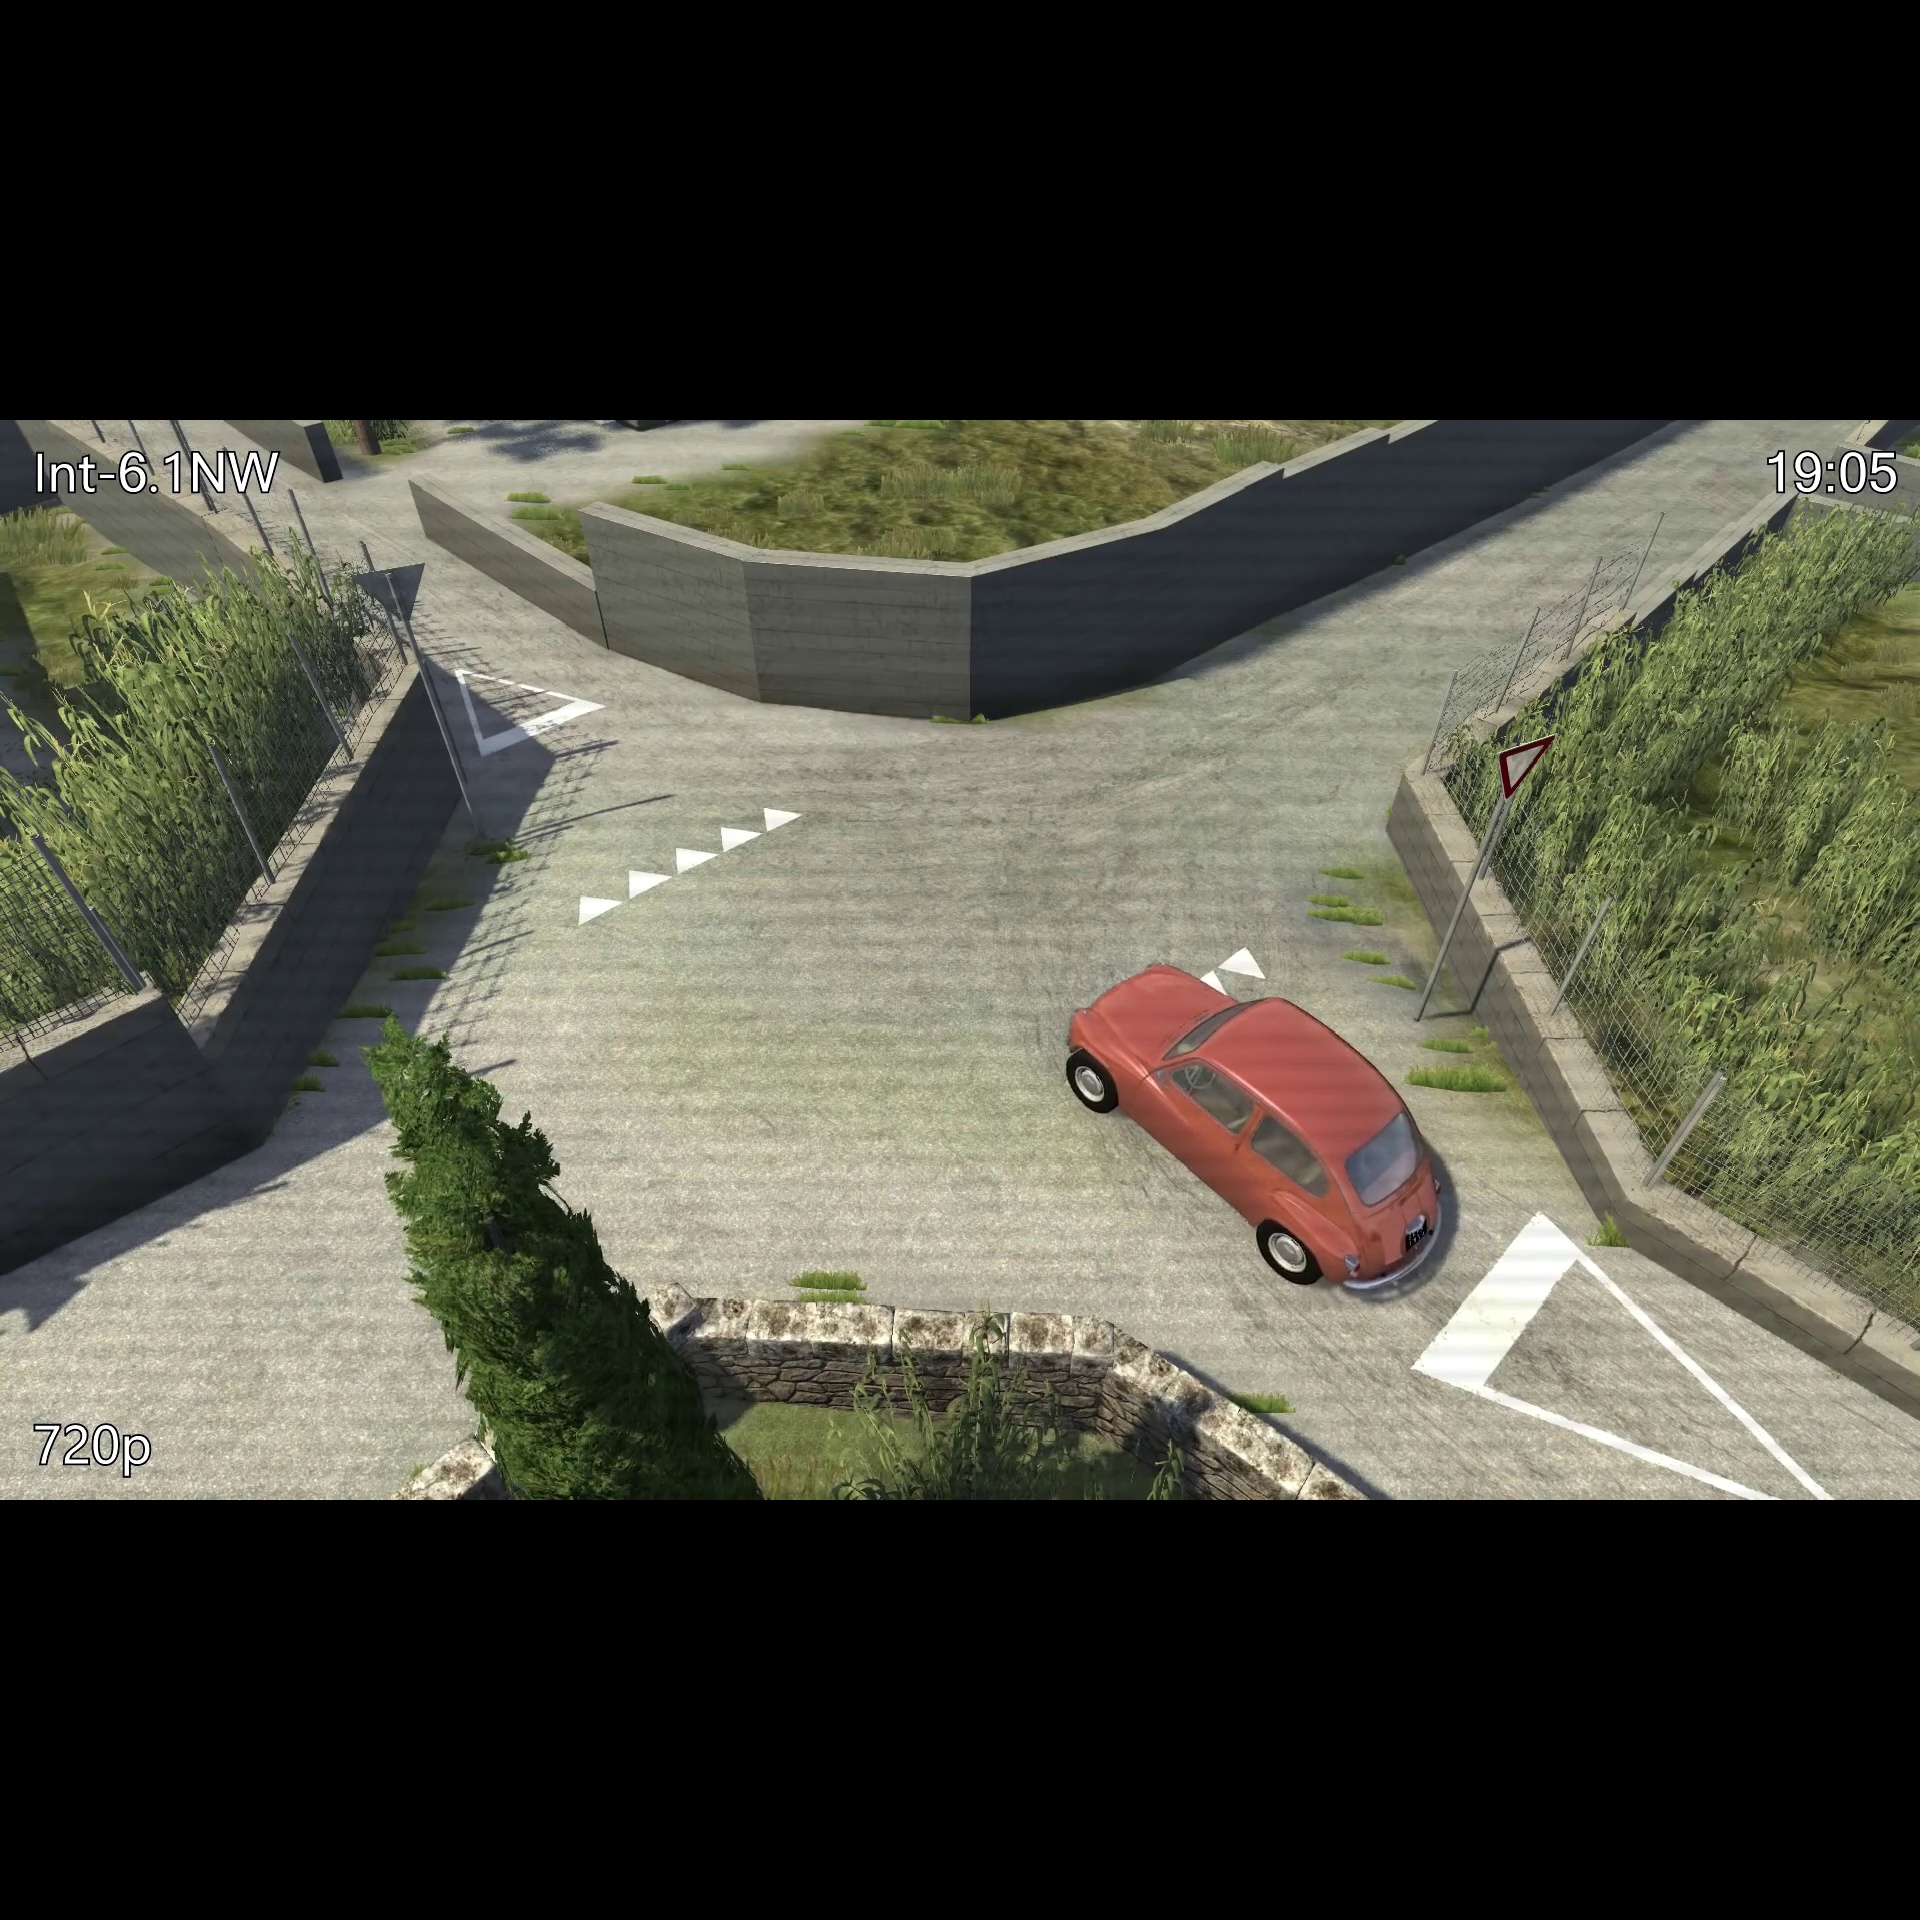vehicle: (1046, 949, 1461, 1301)
